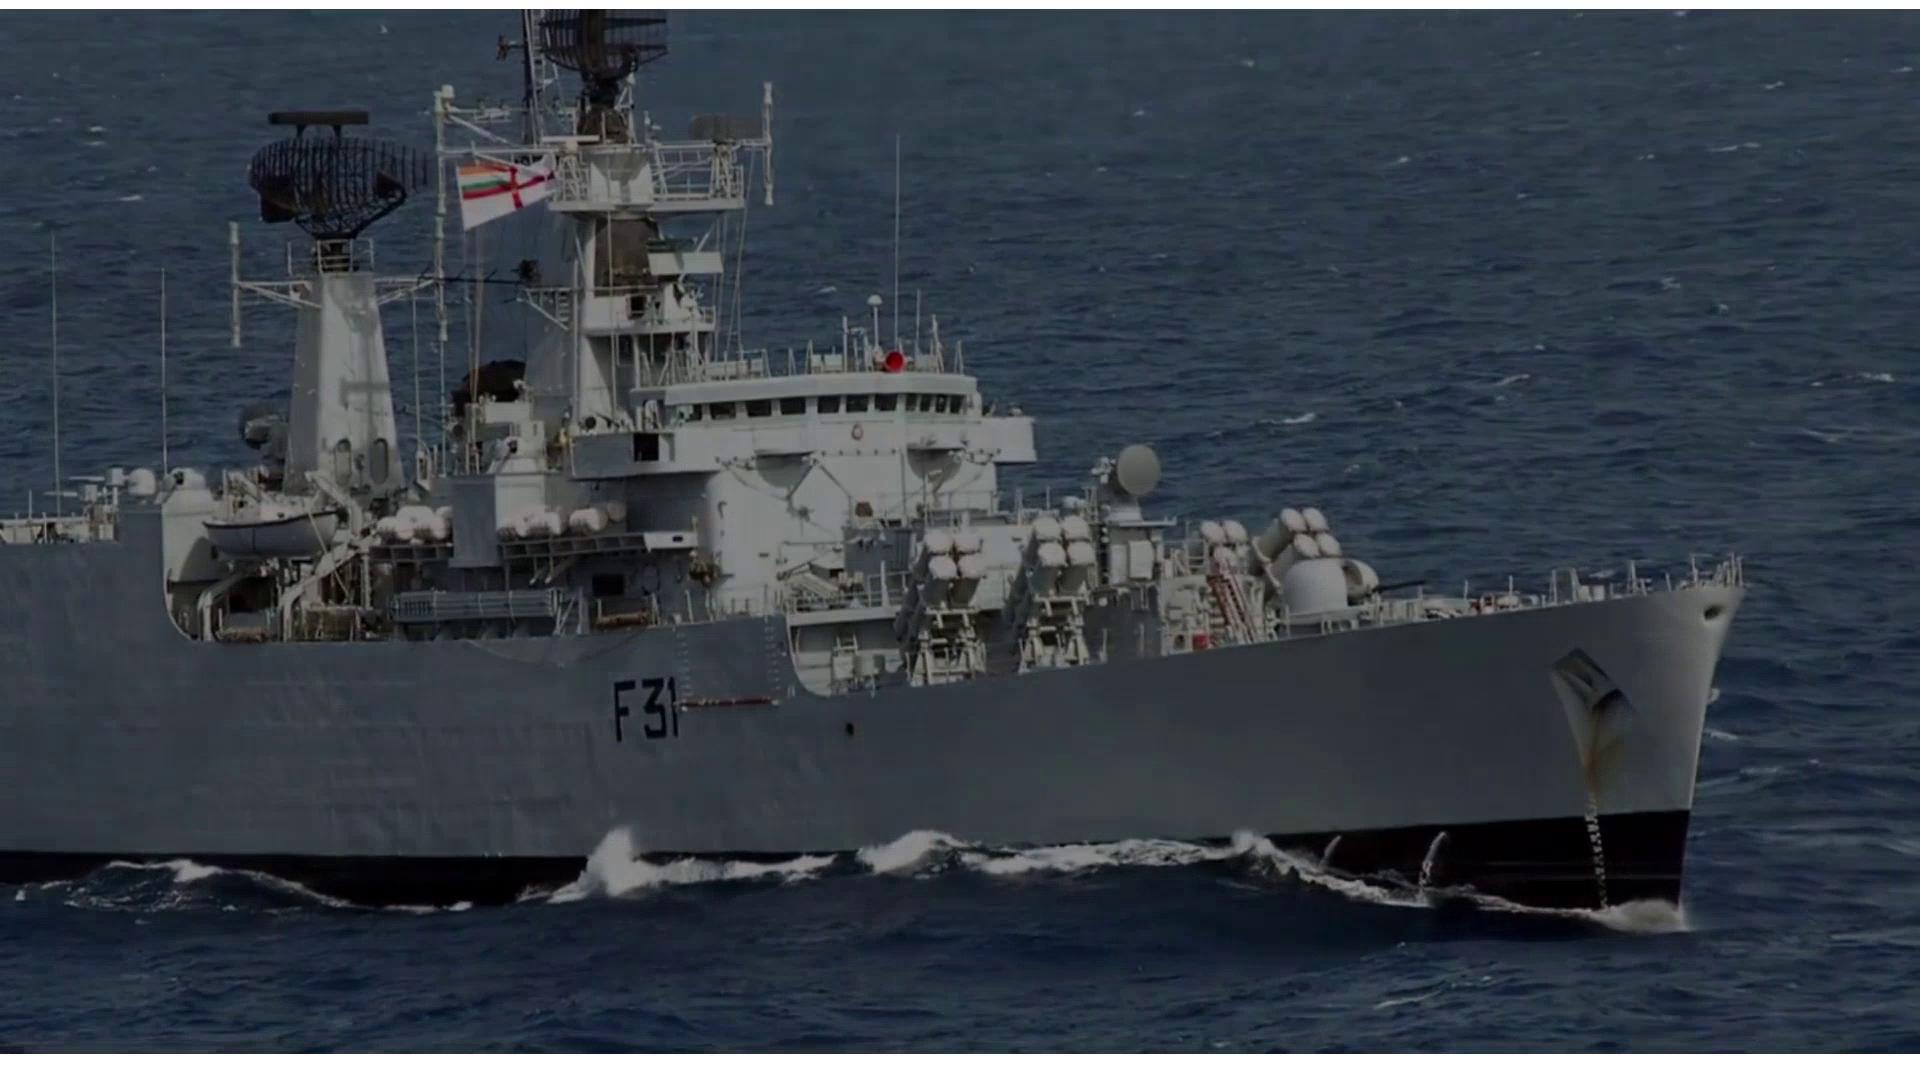OCR: (606, 666, 684, 756)
